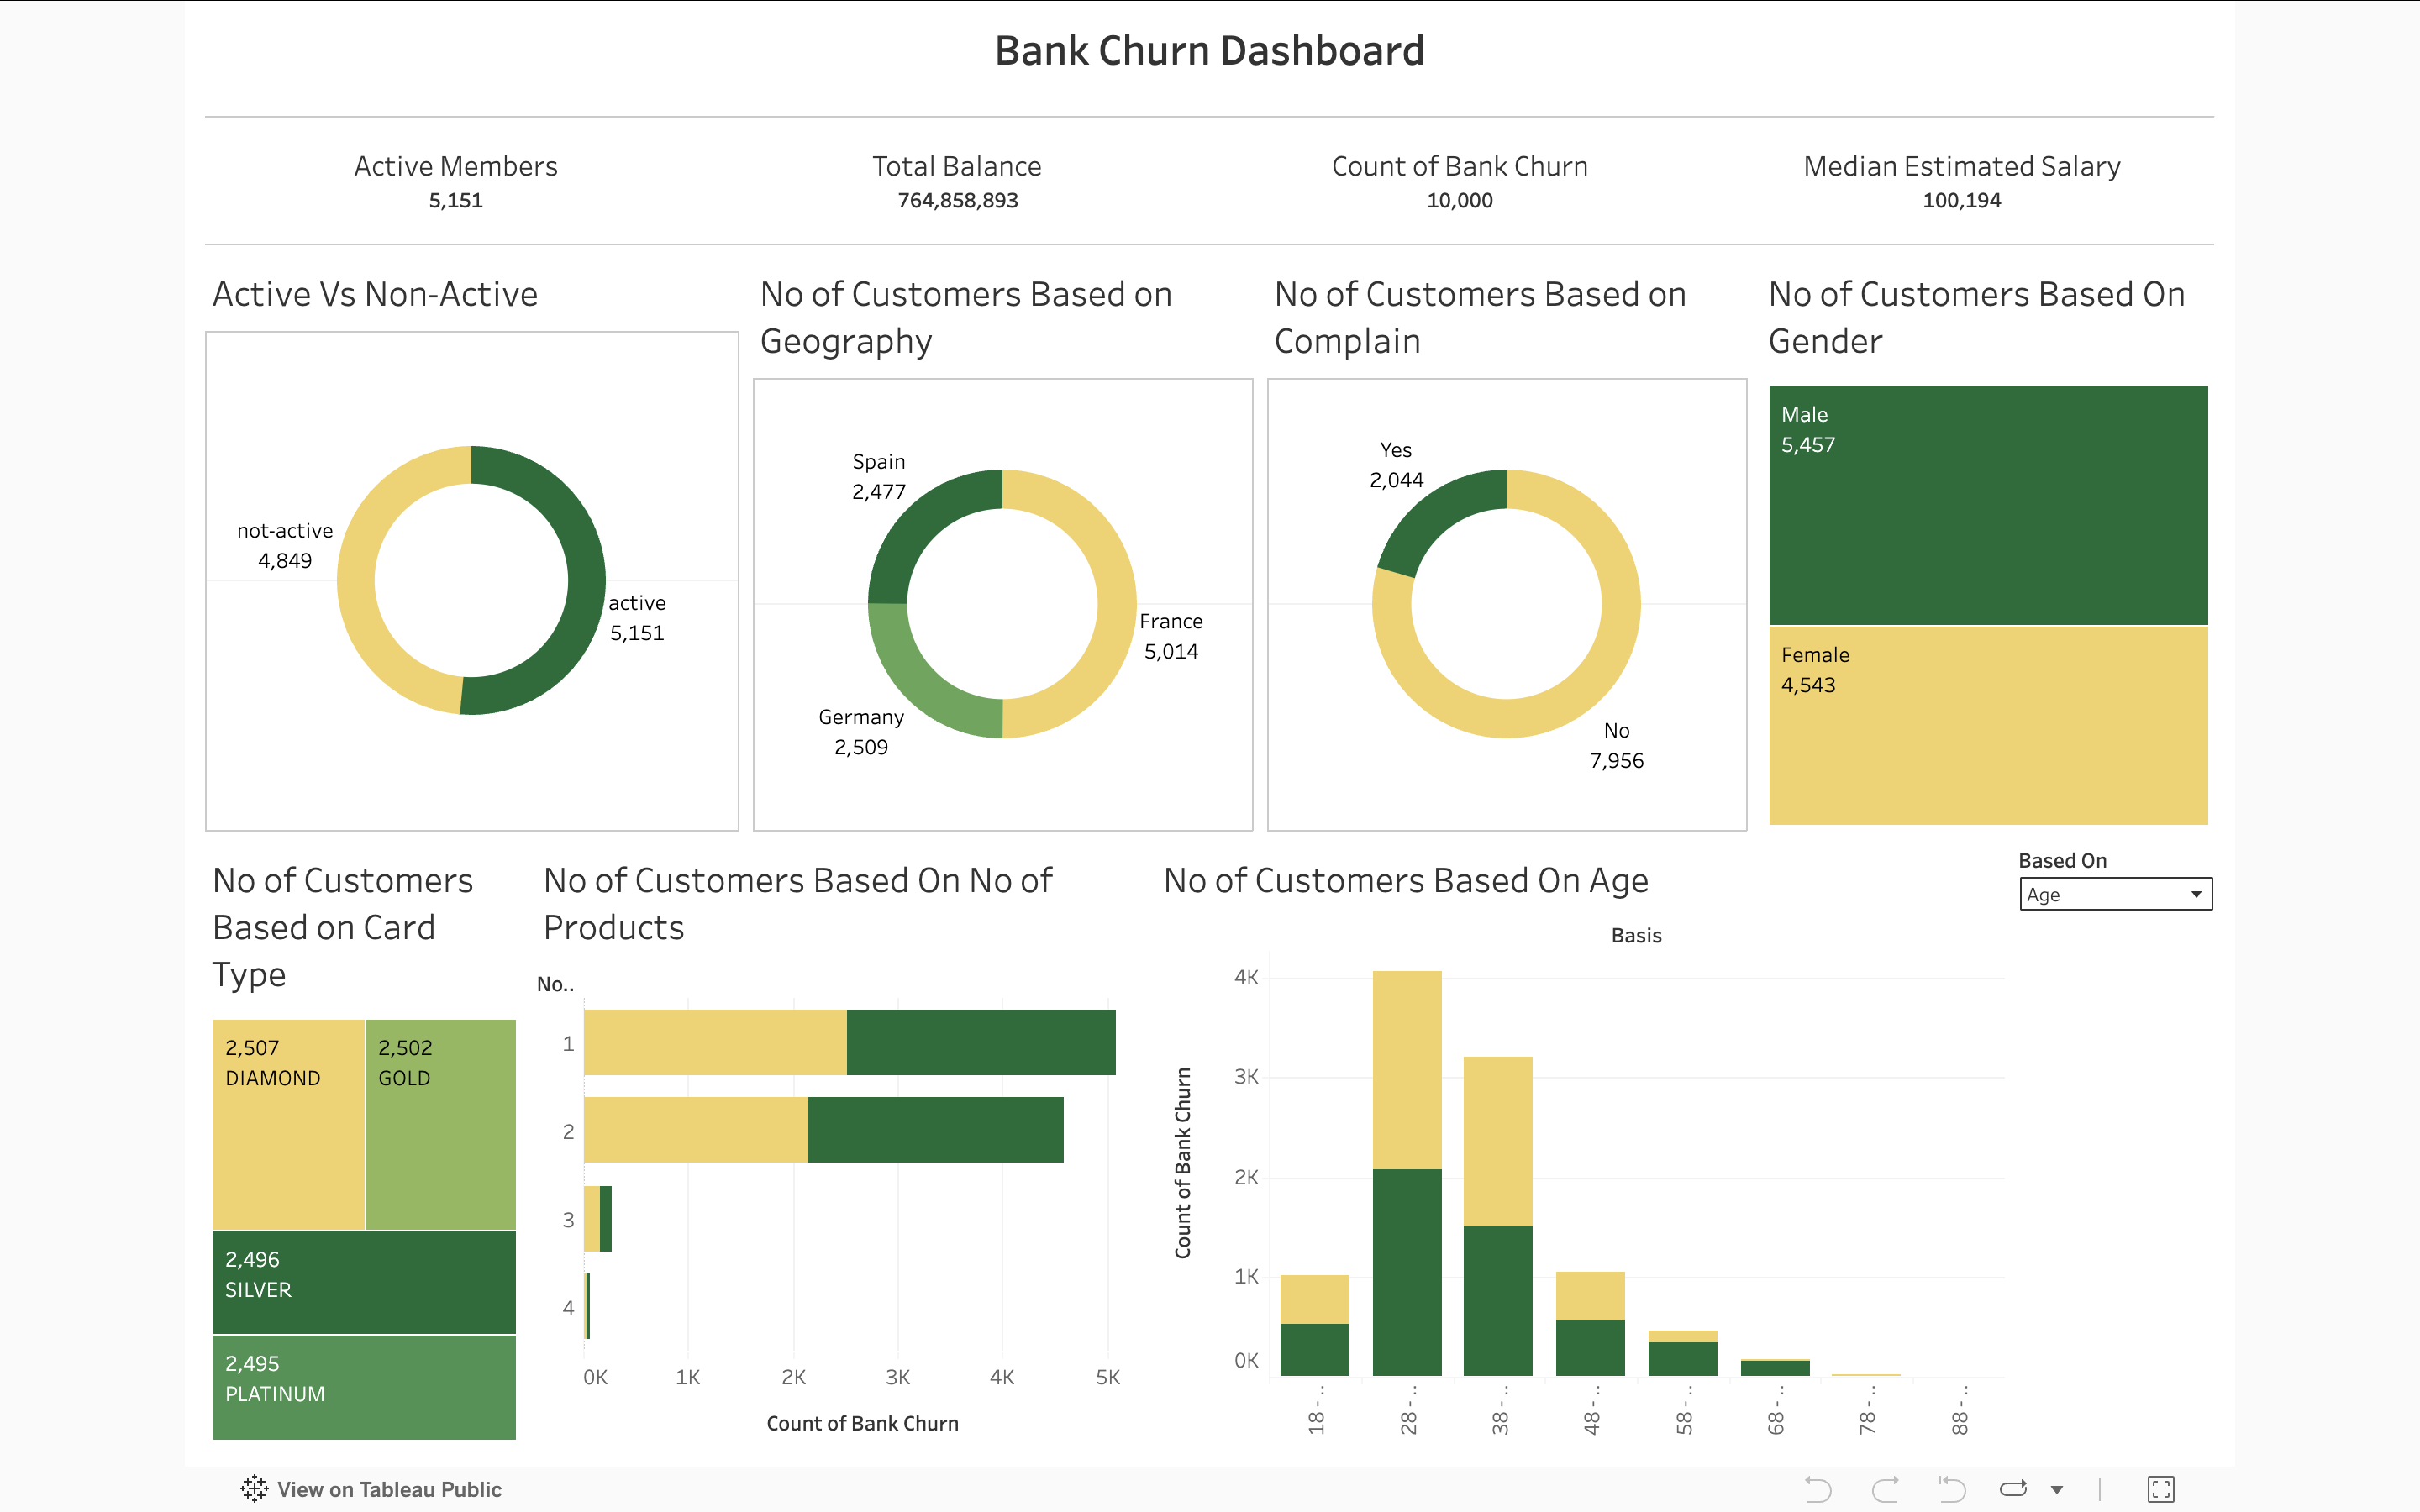

Layout of this report page (visuals, bound fields, positions):
{"tool":"tableau","page":{"name":"Dashboard 1","canvas":[1000,1000],"units":"permille","ordinal":0},"visuals":[{"type":"title","box":[6.7,10.5,986.6,54]},{"type":"worksheet","title":"Sheet 3","mark":"Text","box":[6.7,64.5,986.6,114]},{"type":"worksheet","title":"Sheet 1","mark":"Pie","rows":["Calculation_3818841432574193664","Calculation_3818841432574193664"],"box":[6.7,178.5,267.3,395.6]},{"type":"worksheet","title":"Sheet 8","mark":"Pie","rows":["Calculation_3818841432574193664","Calculation_3818841432574193664"],"box":[274,178.5,250.6,395.6]},{"type":"worksheet","title":"Sheet 8 (2)","mark":"Pie","rows":["Calculation_3818841432574193664","Calculation_3818841432574193664"],"box":[524.6,178.5,240.6,395.6]},{"type":"worksheet","title":"Sheet 9","mark":"Automatic","box":[765.2,178.5,228.1,395.6]},{"type":"worksheet","title":"Sheet 4","mark":"Automatic","box":[6.7,574.1,161.2,415.3]},{"type":"worksheet","title":"Sheet 10","mark":"Automatic","rows":["Num Of Products (bin)"],"cols":["Customer-Churn-Records.csv_89C5538F52114D789BC2EF33AB147D4E"],"box":[167.9,574.1,302.4,415.3]},{"type":"worksheet","title":"Sheet 2","mark":"Automatic","rows":["Customer-Churn-Records.csv_89C5538F52114D789BC2EF33AB147D4E"],"cols":["Calculation_3602387175138332672"],"box":[470.3,574.1,420.2,415.3]},{"type":"parameter","param":"[Parameters].[Parameter 1]","box":[890.5,574.1,102.8,415.3]}]}

Visuals, with their boxes on the dashboard's canvas, which has no fixed pixel size, in thousandths of its width and height (x1, y1, x2, y2). These are canvas units, not pixel positions in the 2420x1512 screenshot, which may show the page scaled, cropped or inside an application window:
title: bbox=(7, 10, 993, 64)
"Sheet 3" worksheet (Text marks): bbox=(7, 64, 993, 178)
"Sheet 1" worksheet (Pie marks): bbox=(7, 178, 274, 574)
"Sheet 8" worksheet (Pie marks): bbox=(274, 178, 525, 574)
"Sheet 8 (2)" worksheet (Pie marks): bbox=(525, 178, 765, 574)
"Sheet 9" worksheet: bbox=(765, 178, 993, 574)
"Sheet 4" worksheet: bbox=(7, 574, 168, 989)
"Sheet 10" worksheet: bbox=(168, 574, 470, 989)
"Sheet 2" worksheet: bbox=(470, 574, 890, 989)
parameter: bbox=(890, 574, 993, 989)
